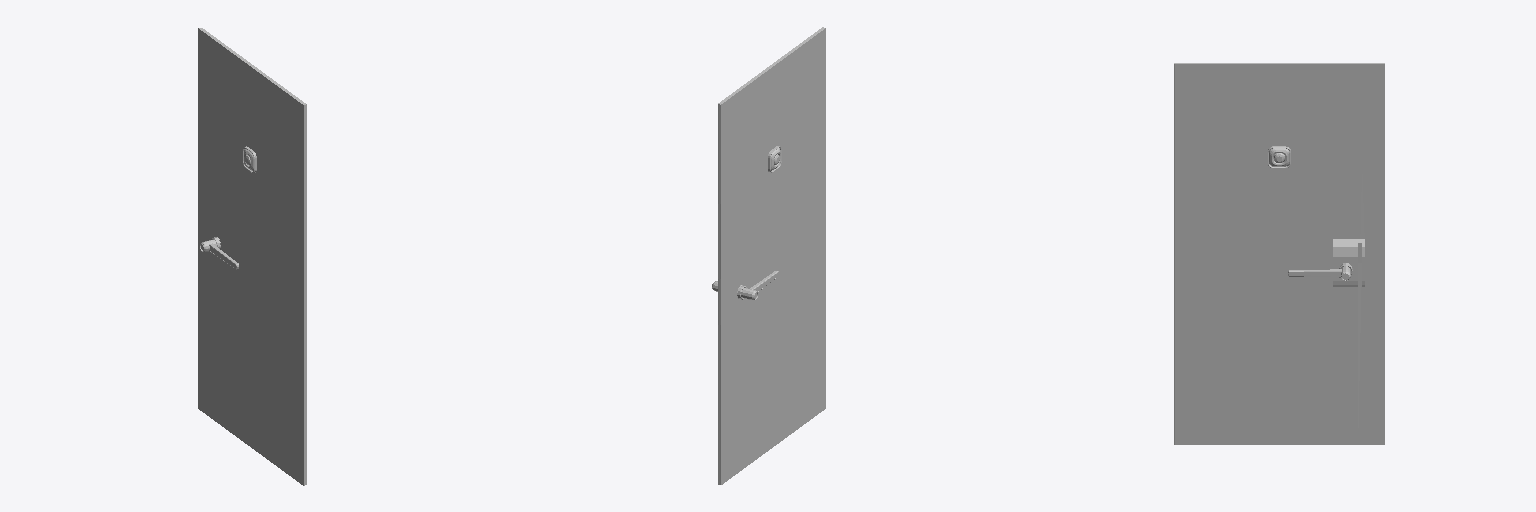
File: DoorClose.obj
3 renders of one model, left to right at view 1: azimuth 30°, elevation 25°; view 2: azimuth 150°, elevation 25°; view 3: azimuth 270°, elevation 25°, orthographic.
Parts seen in each view (by area): view 1: Peephole; view 2: Peephole; view 3: Peephole.
Part boxes in pixels (x1,y1,x2,y2): Peephole: (198, 28, 306, 485); Peephole: (712, 27, 825, 484); Peephole: (1174, 63, 1384, 444).
Bounding box in the file's own units: 0.4659 × 4.01 × 2.01.